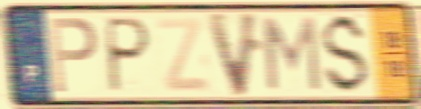M: (260, 14, 324, 94)
P: (47, 14, 100, 96), (104, 15, 154, 95)
S: (321, 11, 373, 98)
V: (204, 9, 263, 101)
Z: (154, 15, 214, 95)
